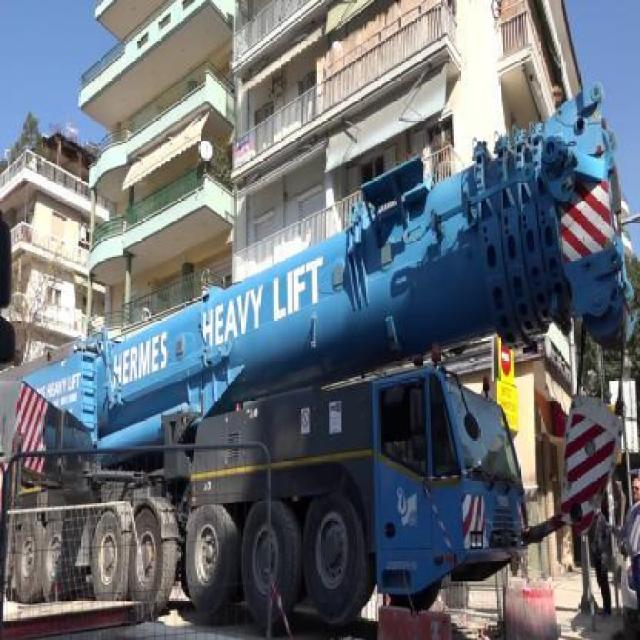Mobile Crane: (0, 102, 628, 618)
